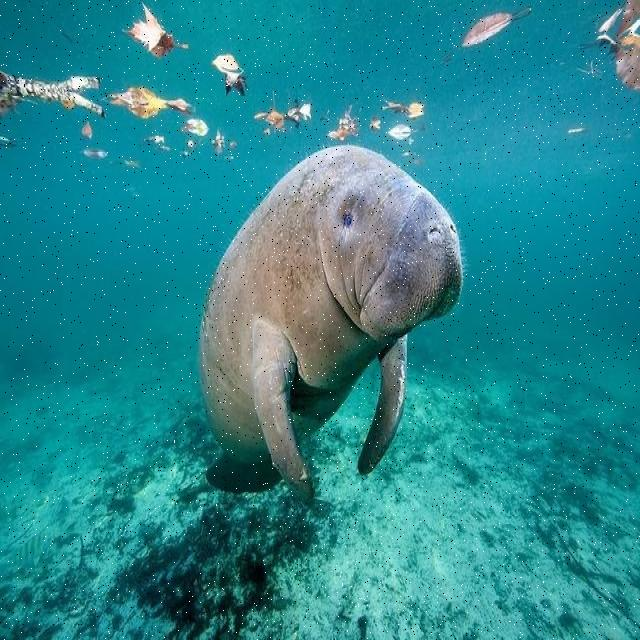fish: (196, 142, 463, 501), (123, 8, 188, 55), (462, 7, 533, 46), (104, 85, 192, 116), (211, 54, 245, 94), (255, 91, 286, 130), (327, 106, 359, 139), (381, 99, 425, 119), (388, 123, 427, 139), (180, 116, 209, 137), (288, 103, 313, 122)
